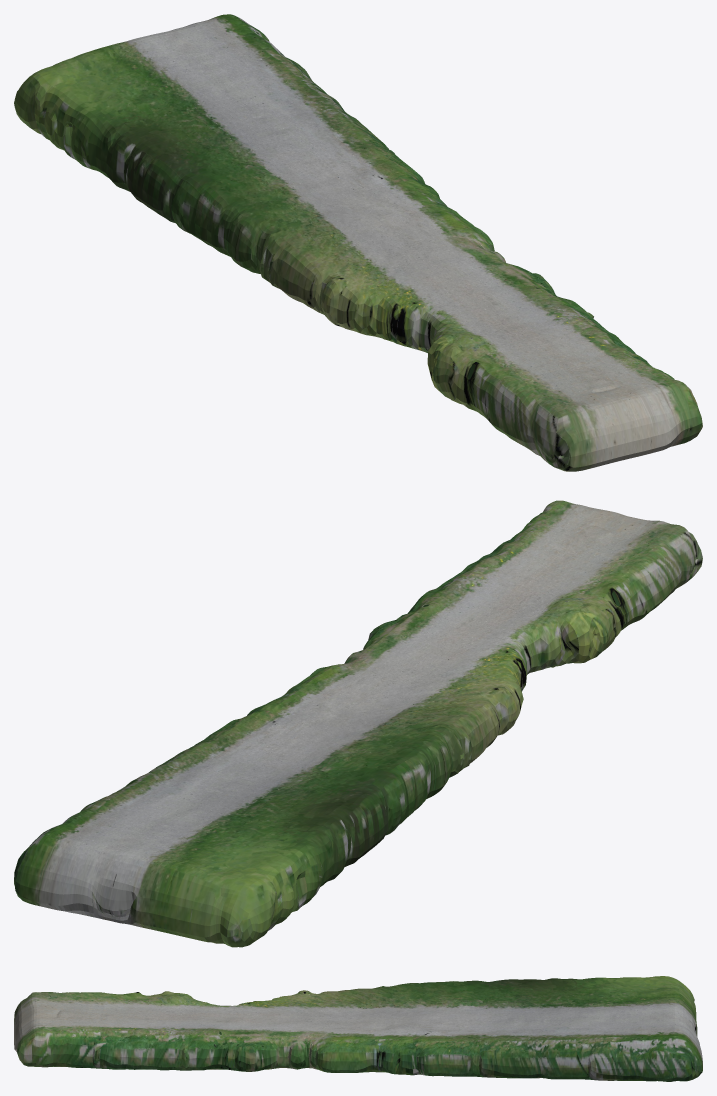
The model's file is kavelytie-1.fbx.
The picture shows the model from 3 angles, top to bottom: view 1: azimuth 30°, elevation 25°; view 2: azimuth 150°, elevation 25°; view 3: azimuth 270°, elevation 25°; orthographic projection. The views are drawn at different scales.
Visible parts, largest first — view 1: texturedMesh.002; view 2: texturedMesh.002; view 3: texturedMesh.002.
Boxes of the visible parts, x1=… form: texturedMesh.002: x1=14, y1=14, x2=702, y2=471; texturedMesh.002: x1=14, y1=500, x2=702, y2=947; texturedMesh.002: x1=14, y1=976, x2=702, y2=1081.
Bounding box in the file's own units: 1629 × 408 × 6089.
Materials: 1 (1 with a texture image).
